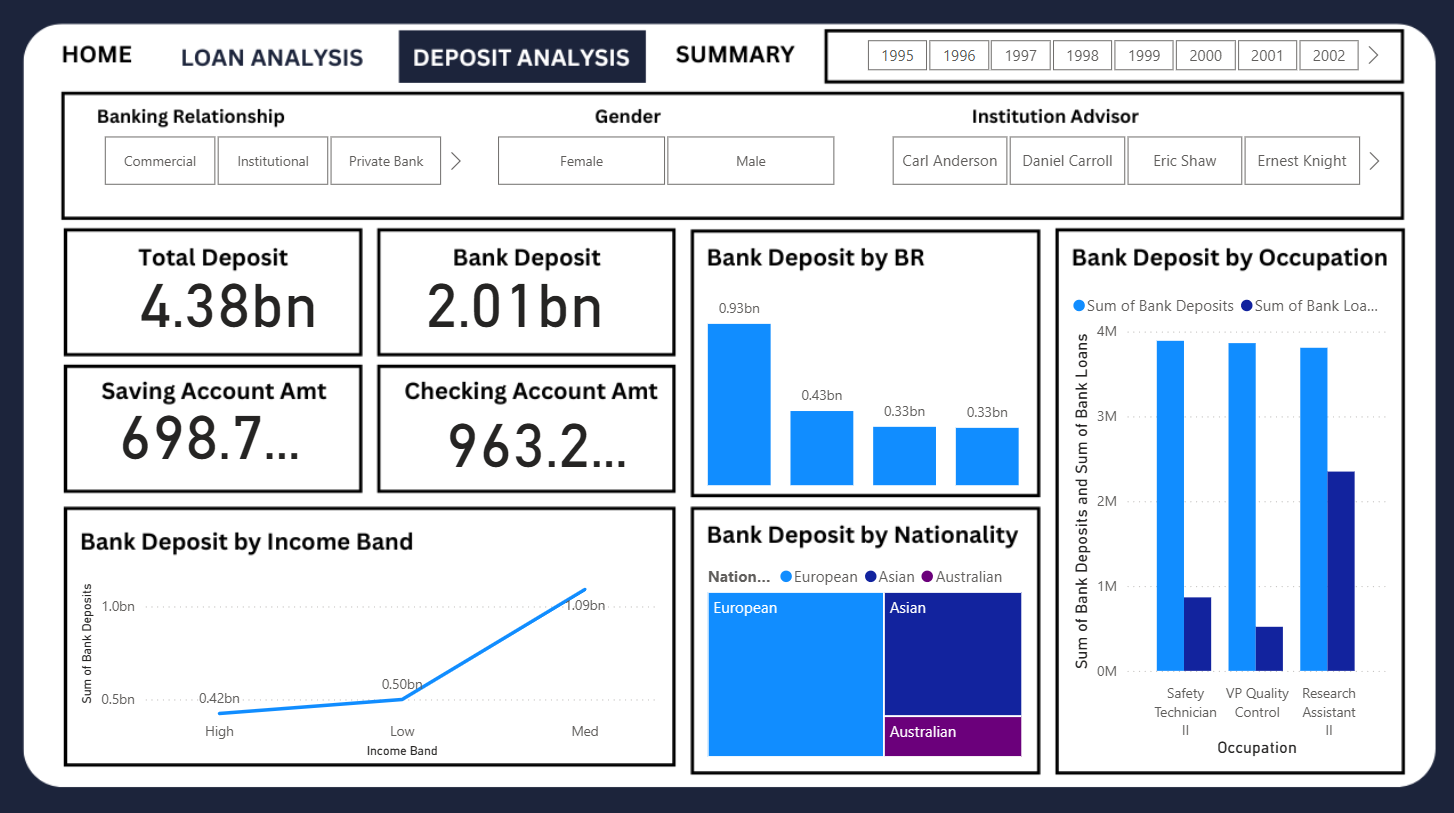

This screenshot's page, from the dashboard's own definition file:
{"tool":"powerbi","page":{"name":"Deposit Analysis","canvas":[1280,720],"ordinal":2},"visuals":[{"type":"slicer","fields":{"Values":["Banking_Clients.Joined Bank.Variation.Date Hierarchy.Year"]},"box":[736.6,29,480.3,38.7],"z":0},{"type":"card","fields":{"Values":["Banking Relationship.Total Loan"]},"box":[106.4,224,191.8,74.1],"z":1000},{"type":"card","fields":{"Values":["Banking_Clients.Bank Deposits"]},"box":[356.2,224,191.8,74.1],"z":2000},{"type":"card","fields":{"Values":["Banking_Clients.Saving Accounts"]},"box":[88.6,340.1,191.8,74.1],"z":3000},{"type":"card","fields":{"Values":["Banking_Clients.Checking Accounts"]},"box":[375.5,346.5,191.8,74.1],"z":4000},{"type":"lineChart","fields":{"Category":["Banking_Clients.Income Band"],"Y":["Banking_Clients.Bank Deposits"]},"box":[67.7,485.1,515.8,183.7],"z":5000},{"type":"clusteredColumnChart","fields":{"Category":["Banking Relationship.Banking Relationship"],"Y":["Banking_Clients.Bank Deposits"]},"box":[617.3,248.2,285.3,183.7],"z":6000},{"type":"treemap","fields":{"Group":["Banking_Clients.Nationality"],"Values":["Banking_Clients.Bank Deposits"]},"box":[617.3,485.1,285.3,183.7],"z":7000},{"type":"clusteredColumnChart","fields":{"Category":["Banking_Clients.Occupation"],"Y":["Banking_Clients.Bank Deposits","Banking_Clients.Bank Loans"]},"box":[936.4,248.2,285.3,420.7],"z":8000},{"type":"slicer","fields":{"Values":["Banking Relationship.Banking Relationship"]},"box":[67.7,112.8,344.9,56.4],"z":9000},{"type":"slicer","fields":{"Values":["Gender.Gender"]},"box":[412.6,112.8,344.9,56.4],"z":10000},{"type":"slicer","fields":{"Values":["Table2.Investment Advisor"]},"box":[757.5,112.8,459.3,56.4],"z":11000}]}

Visuals, with their boxes in screenshot pixels (x1, y1, x2, y2), scaled from the page's 1280x720 canvas onto the 1454x813 screenshot:
slicer - Banking_Clients.Joined Bank.Variation.Date Hierarchy.Year: <box>837,33,1382,76</box>
card - Banking Relationship.Total Loan: <box>121,253,339,337</box>
card - Banking_Clients.Bank Deposits: <box>405,253,622,337</box>
card - Banking_Clients.Saving Accounts: <box>101,384,319,468</box>
card - Banking_Clients.Checking Accounts: <box>427,391,644,475</box>
lineChart - Banking_Clients.Income Band x Banking_Clients.Bank Deposits: <box>77,548,663,755</box>
clusteredColumnChart - Banking Relationship.Banking Relationship x Banking_Clients.Bank Deposits: <box>701,280,1025,488</box>
treemap - Banking_Clients.Nationality x Banking_Clients.Bank Deposits: <box>701,548,1025,755</box>
clusteredColumnChart - Banking_Clients.Occupation x Banking_Clients.Bank Deposits: <box>1064,280,1388,755</box>
slicer - Banking Relationship.Banking Relationship: <box>77,127,469,191</box>
slicer - Gender.Gender: <box>469,127,860,191</box>
slicer - Table2.Investment Advisor: <box>860,127,1382,191</box>
